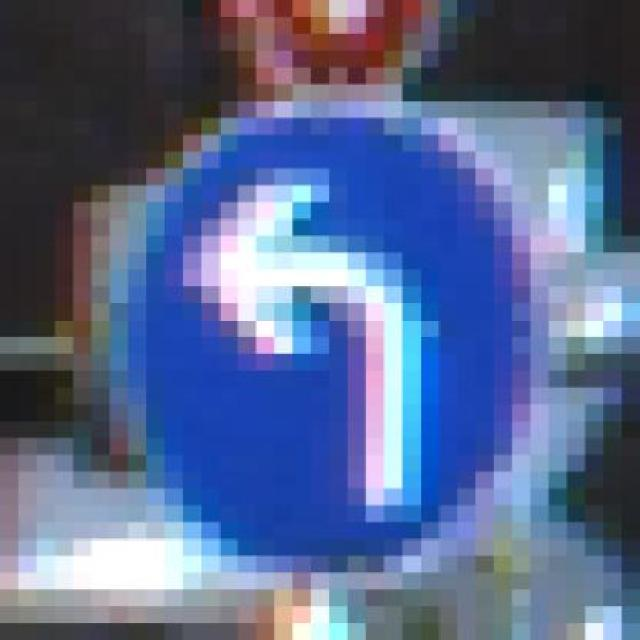Turn left ahead: (110, 118, 548, 573)
